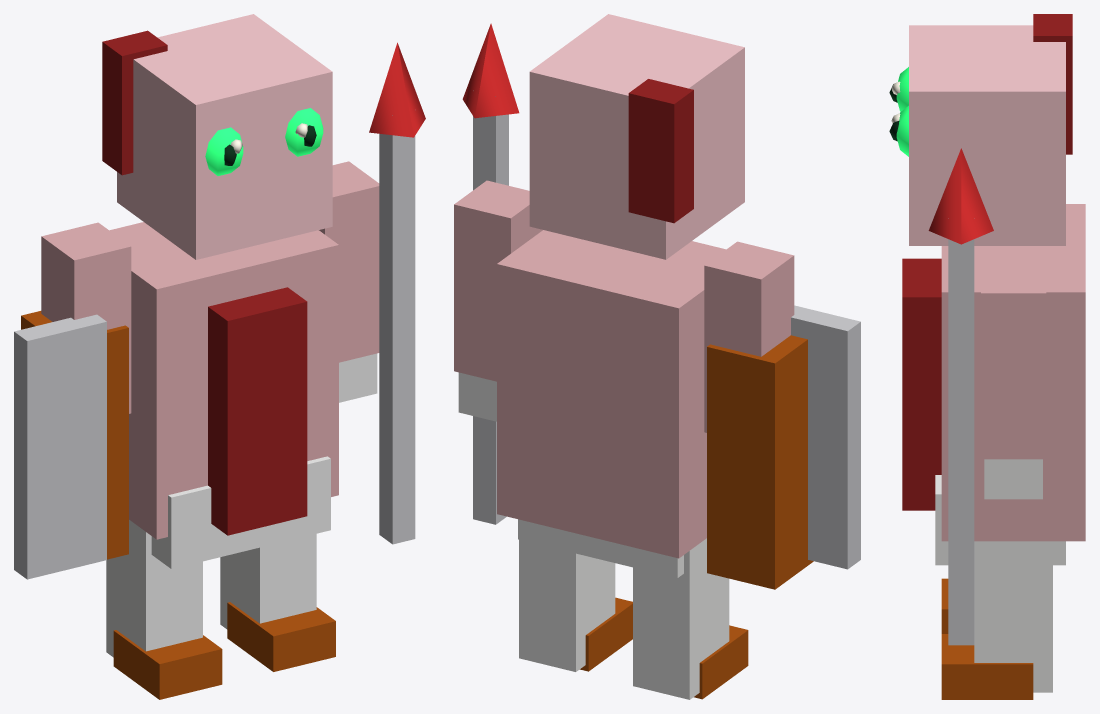
The model's file is RescueAmazonessA.glb.
3 views of the same model, side by side, from view 1: azimuth 30°, elevation 25°; view 2: azimuth 150°, elevation 25°; view 3: azimuth 270°, elevation 25° (orthographic).
Visible parts, largest first — view 1: RescueAmazonessBody, RescueAmazonessArmR, RescueAmazonessArmL; view 2: RescueAmazonessBody, RescueAmazonessArmR, RescueAmazonessArmL; view 3: RescueAmazonessBody, RescueAmazonessArmR.
Part boxes in pixels (x1,y1,x2,y2): RescueAmazonessBody: (14, 14, 425, 699); RescueAmazonessArmR: (319, 161, 379, 402); RescueAmazonessArmL: (41, 222, 131, 413); RescueAmazonessBody: (462, 14, 860, 699); RescueAmazonessArmR: (454, 180, 542, 421); RescueAmazonessArmL: (704, 241, 794, 432); RescueAmazonessBody: (889, 14, 1085, 699); RescueAmazonessArmR: (981, 265, 1046, 499).
Size of the model in its own units: 0.7 by 1.02 by 0.3.
